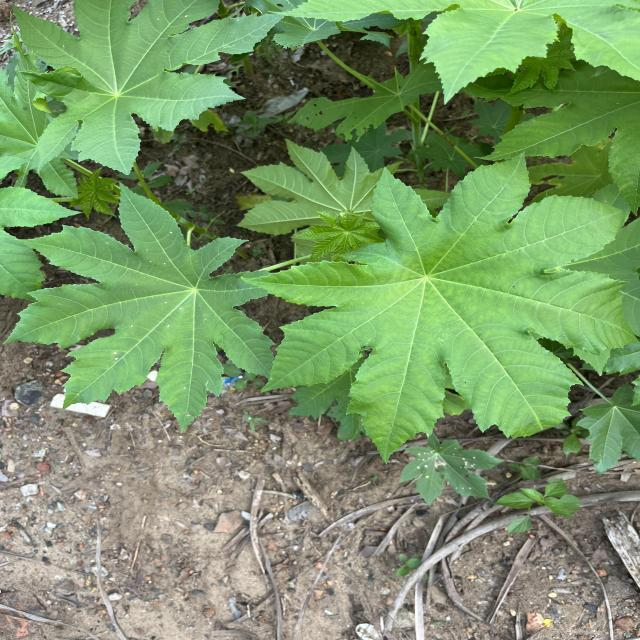Ricinus communis linn: (234, 146, 640, 468), (4, 177, 282, 439), (2, 0, 296, 179)
